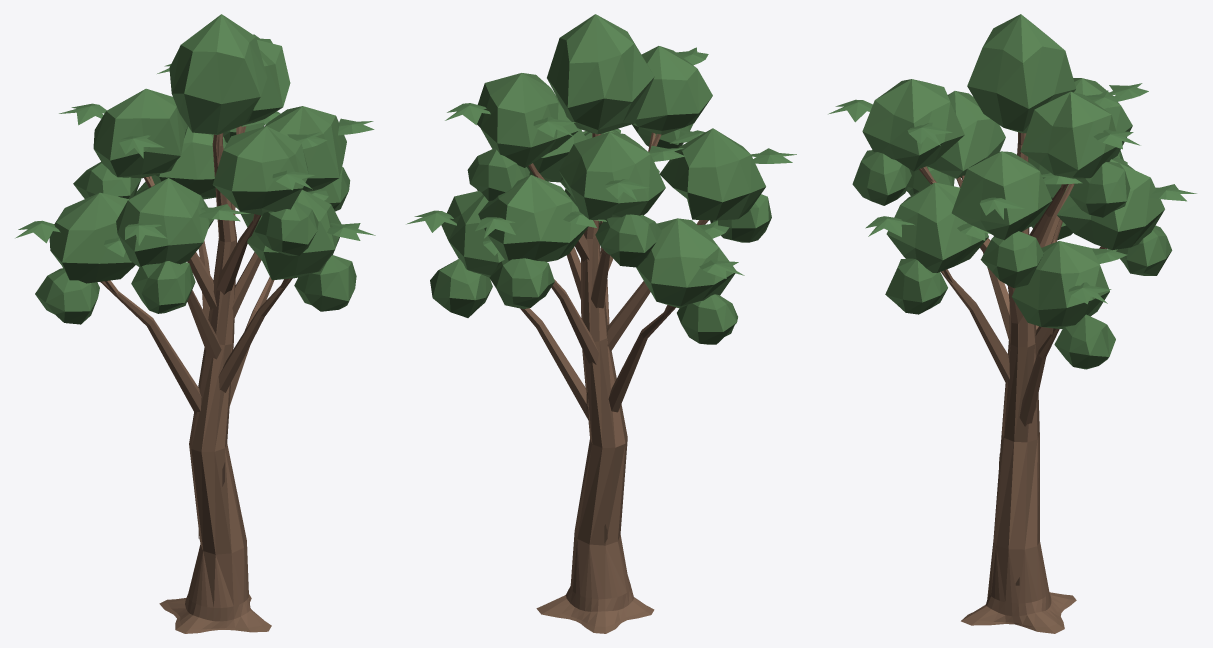
Rendered from maple_young.glb.
The picture shows the model from 3 angles, left to right: view 1: azimuth 30°, elevation 25°; view 2: azimuth 150°, elevation 25°; view 3: azimuth 270°, elevation 25°; orthographic projection.
Parts seen in each view (by area): view 1: leaves, branches; view 2: leaves, branches; view 3: leaves, branches.
Part boxes in pixels (box(x1,y1,x2,y2)): leaves: box(15, 14, 375, 324); branches: box(100, 126, 292, 633); leaves: box(406, 14, 796, 344); branches: box(520, 132, 708, 633); leaves: box(828, 14, 1196, 369); branches: box(919, 132, 1107, 633).
Size of the model in its own units: 1.15 by 2 by 1.12.
